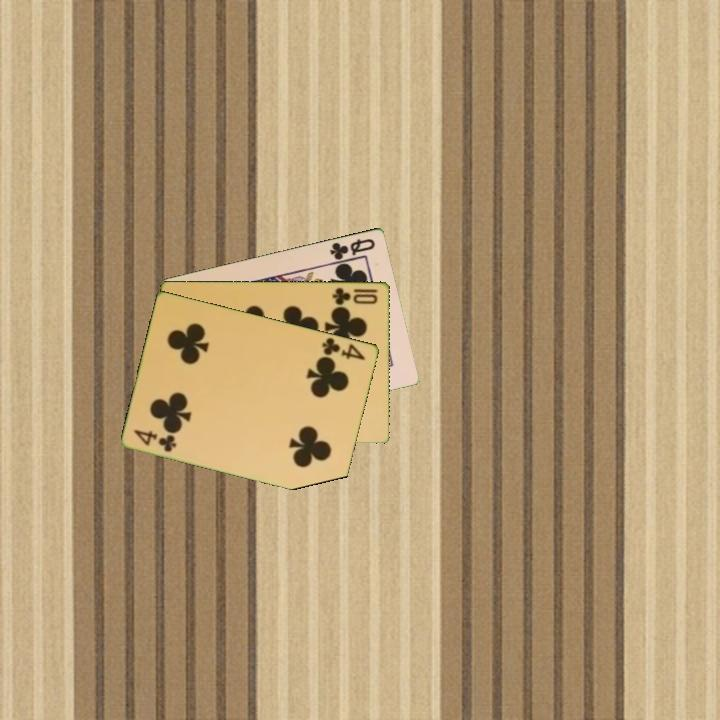10c: (329, 284, 380, 307)
4c: (319, 334, 368, 363), (131, 426, 180, 455)
Qc: (326, 234, 378, 265)
